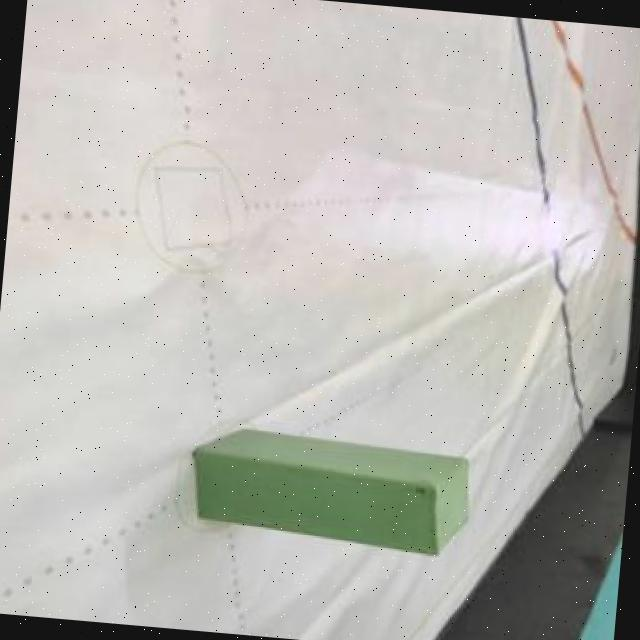greenbox: (180, 423, 479, 560)
